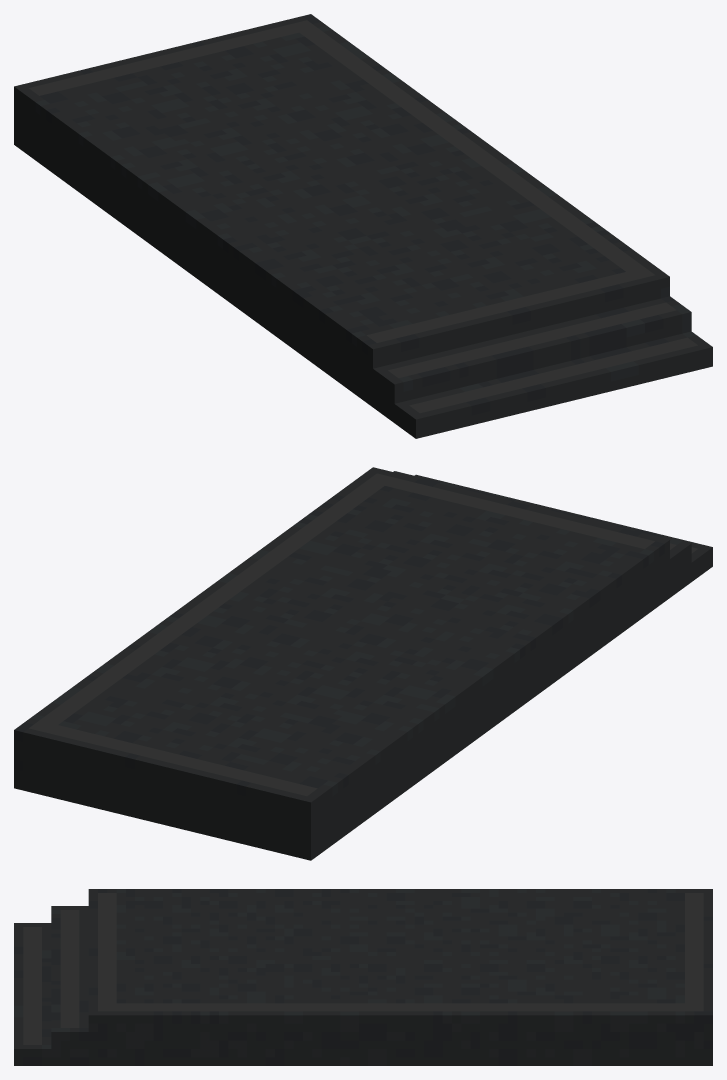
Rendered from EscalónProfesor.obj.
3 renders of one model, top to bottom at view 1: azimuth 30°, elevation 25°; view 2: azimuth 150°, elevation 25°; view 3: azimuth 270°, elevation 25°, orthographic. The views are drawn at different scales.
Size of the model in its own units: 3.2 by 0.6 by 7.5.
1 material, 1 textured.
